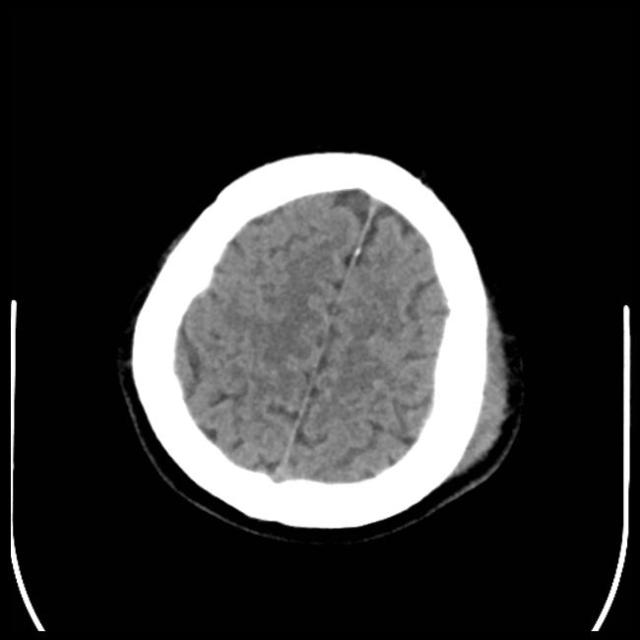lesion: (119, 145, 526, 545)
